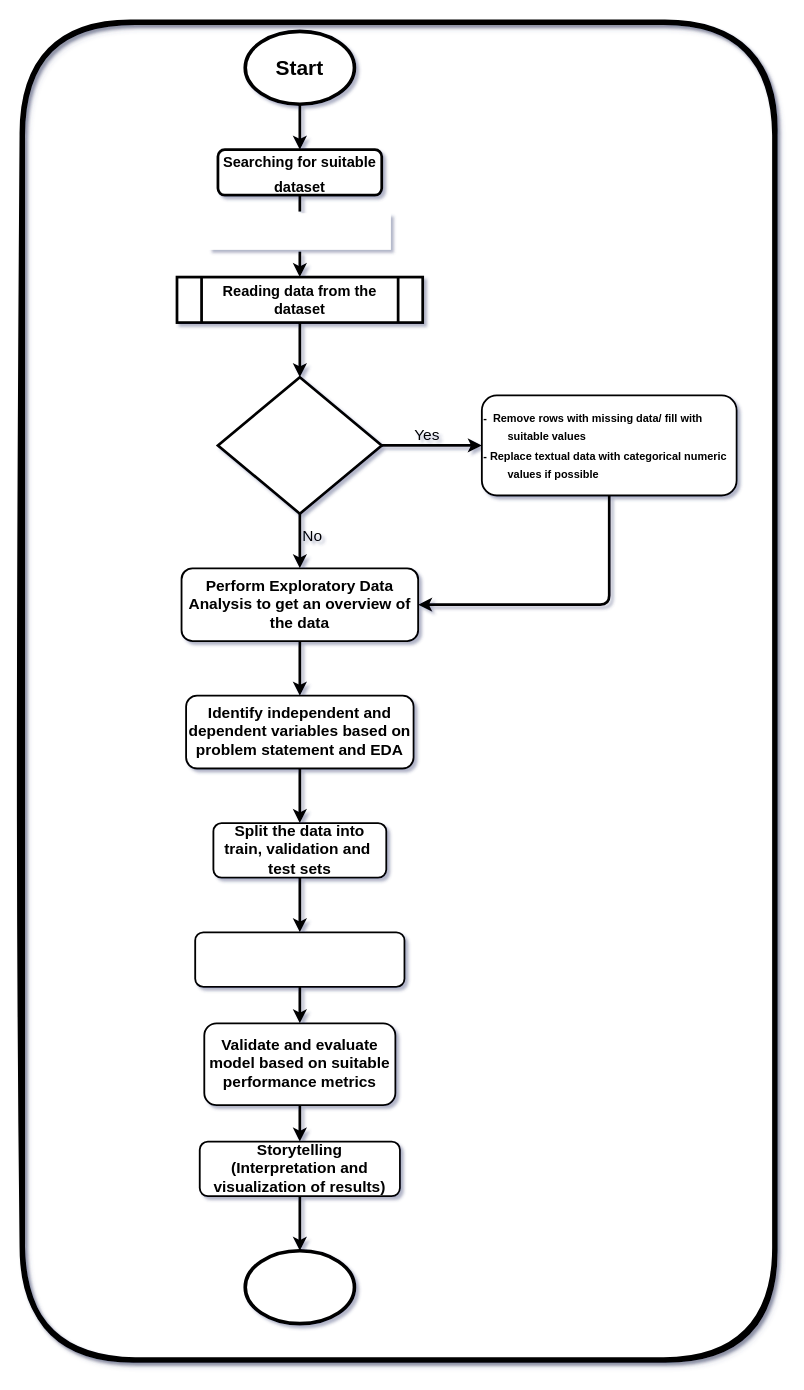
This 804x1390 diagram has some shape labels left out. The shapes that lost their labels are listed below. From the top down, each one's centre as x and y in pixels, then its label:
At (299,231): "After finding suitable dataset".
At (299,445): "Invalid/corrupted /missing values?".
At (299,959): "Create and train the ML model".
At (299,1287): "Stop".
